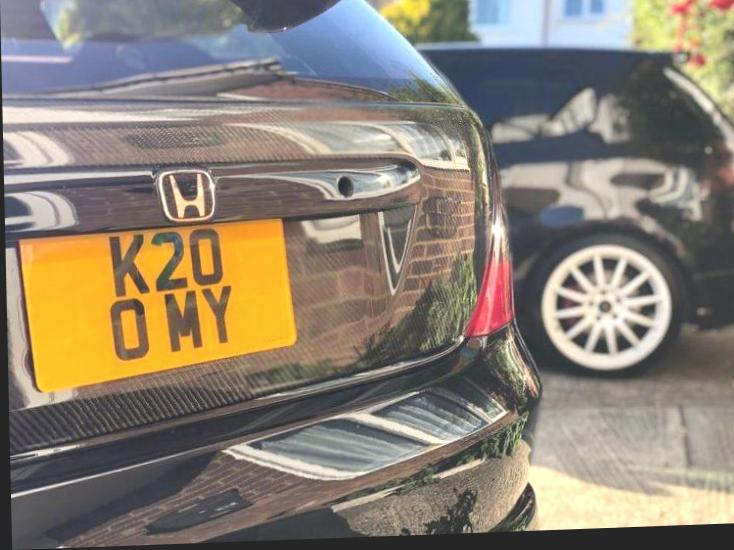License_Plate: (12, 214, 308, 403)
